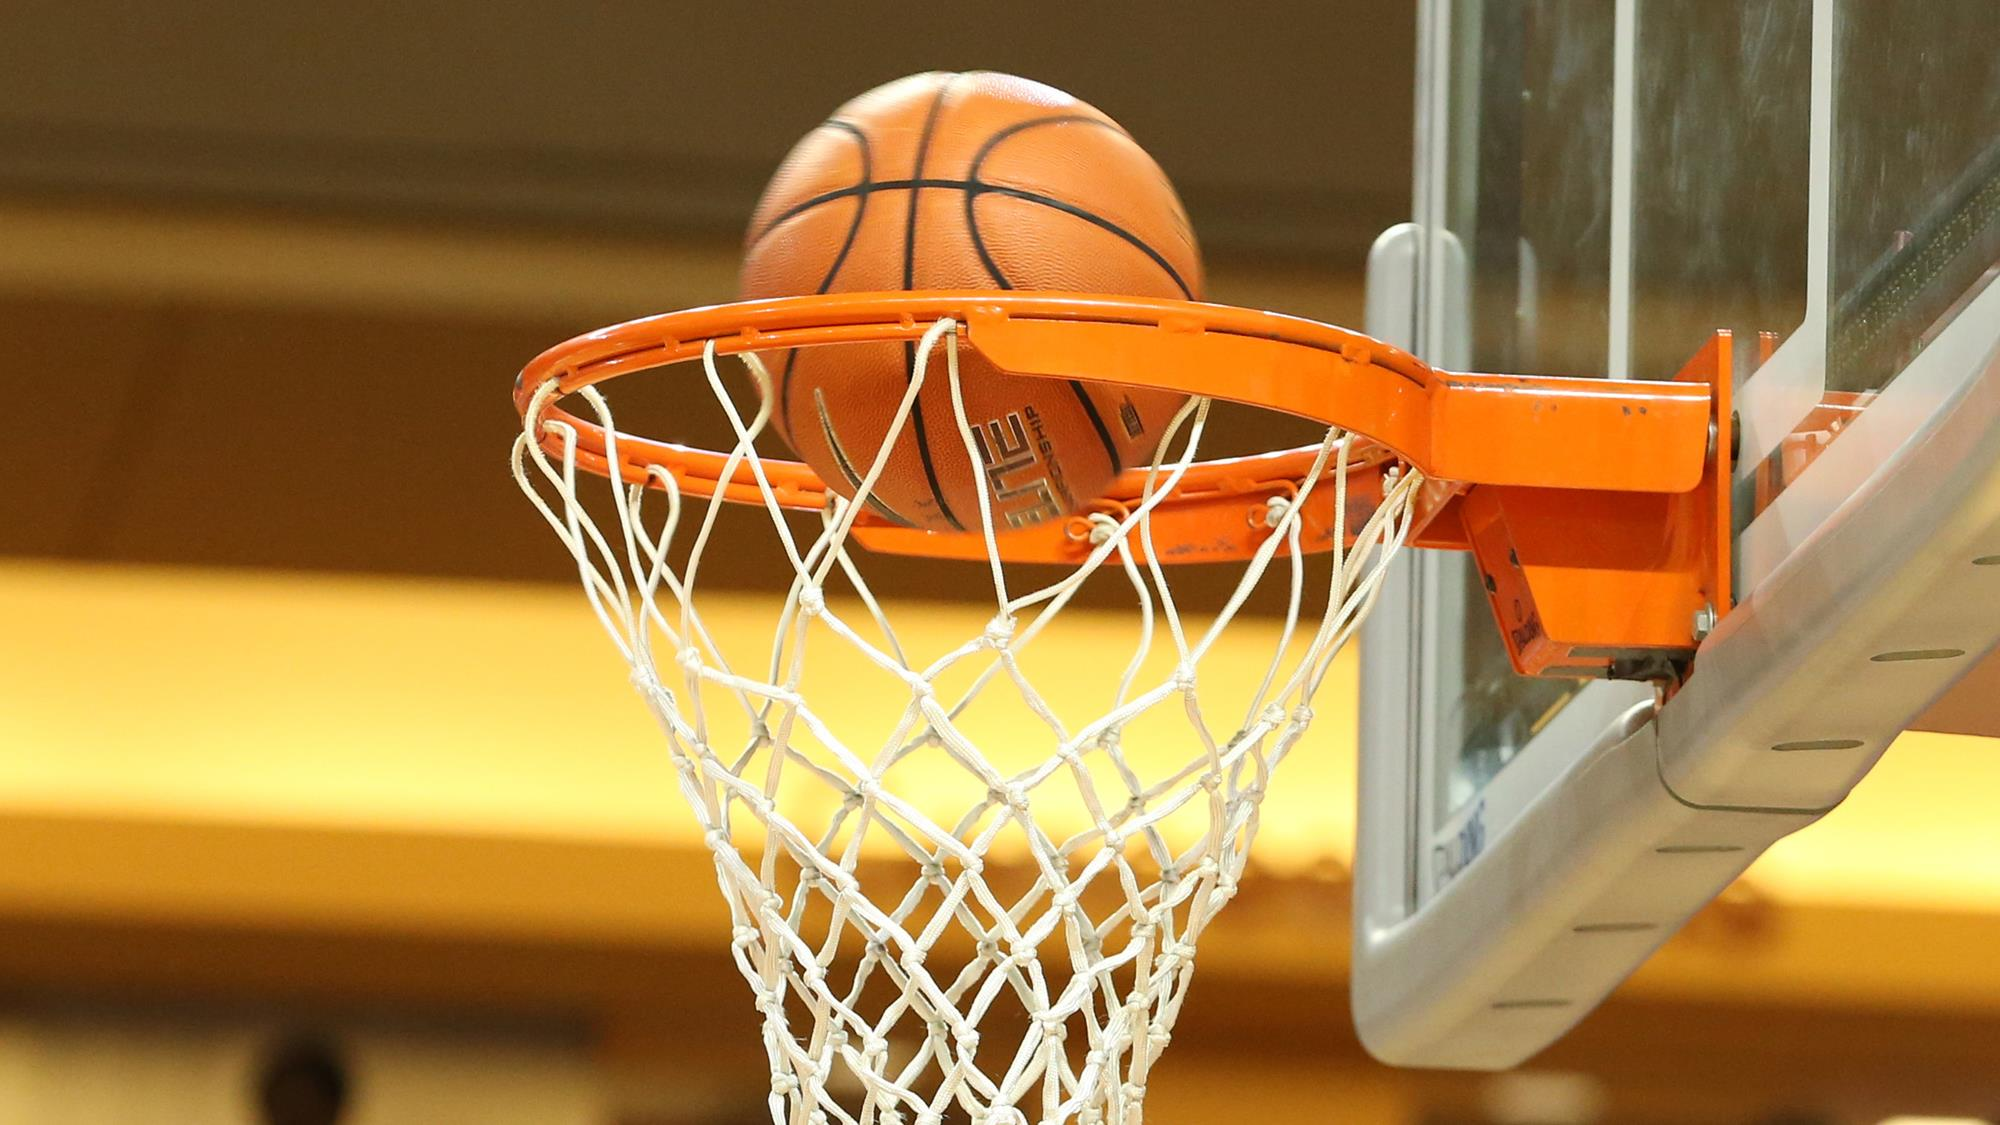MadeBasket: (514, 69, 1429, 1125)
